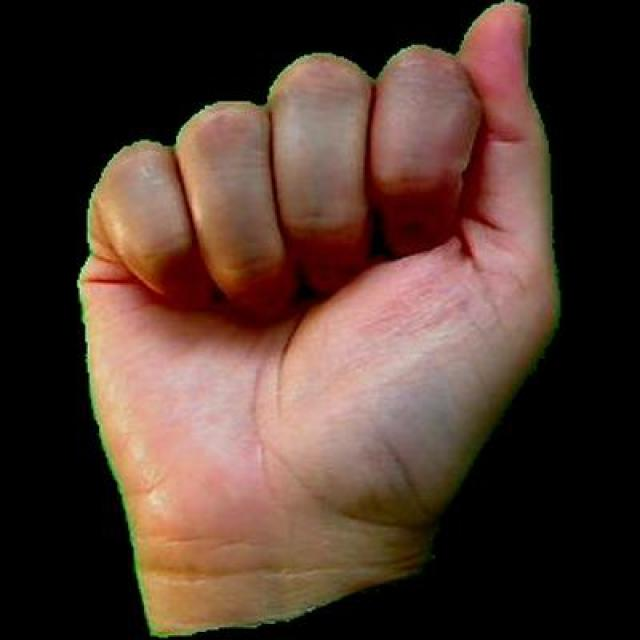a: (70, 0, 562, 637)
